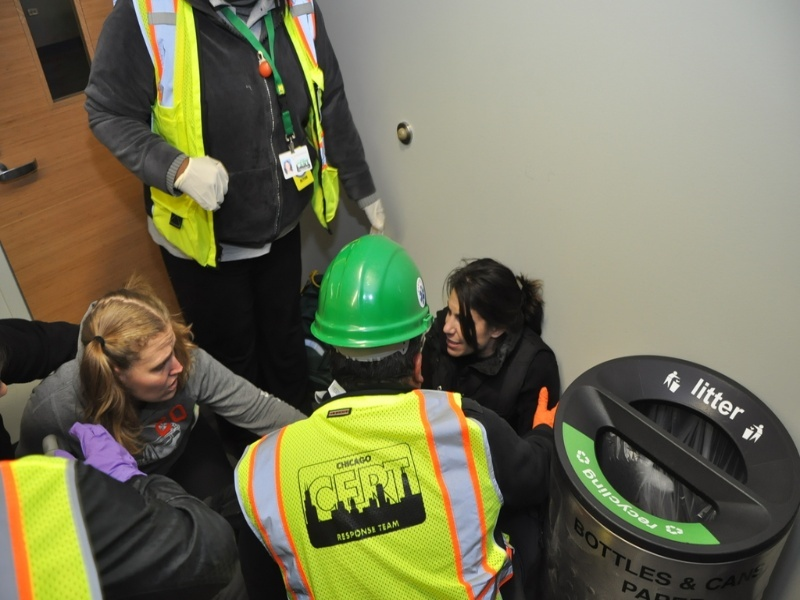Baret: (306, 233, 434, 340)
